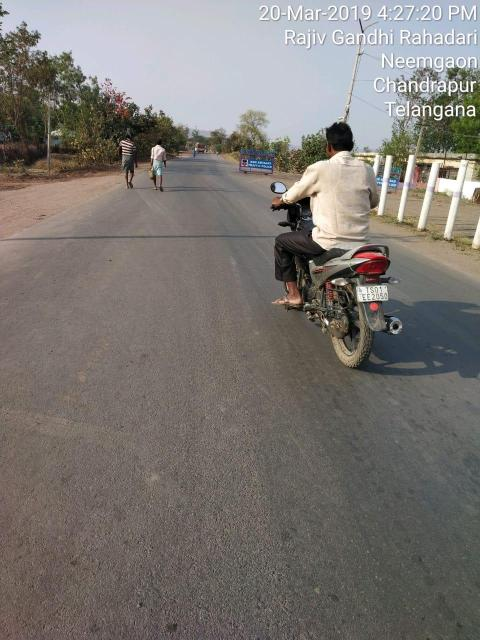motor: (271, 206, 405, 372)
non-helm: (328, 124, 355, 161)
